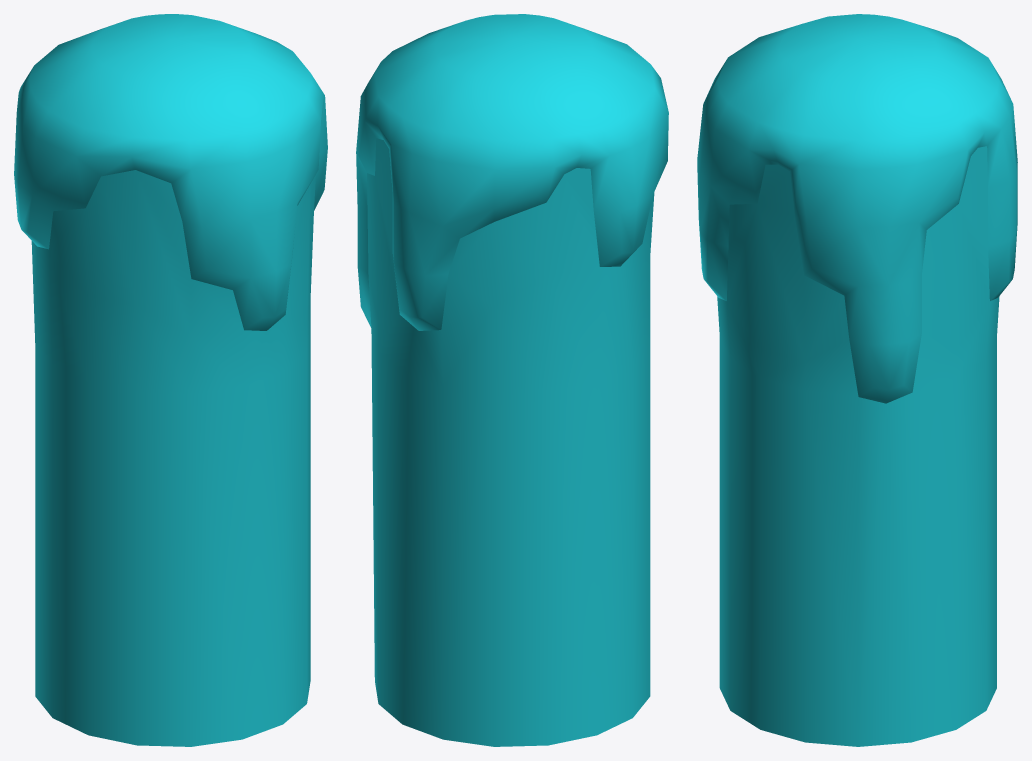
File: Candle.fbx
The picture shows the model from 3 angles, left to right: view 1: azimuth 30°, elevation 25°; view 2: azimuth 150°, elevation 25°; view 3: azimuth 270°, elevation 25°; orthographic projection.
Parts seen in each view (by area): view 1: Candle; view 2: Candle; view 3: Candle.
Boxes of the visible parts, x1=… form: Candle: x1=14, y1=14, x2=327, y2=746; Candle: x1=356, y1=14, x2=668, y2=746; Candle: x1=697, y1=14, x2=1017, y2=746.
Size of the model in its own units: 9.01 by 20.14 by 9.02.
